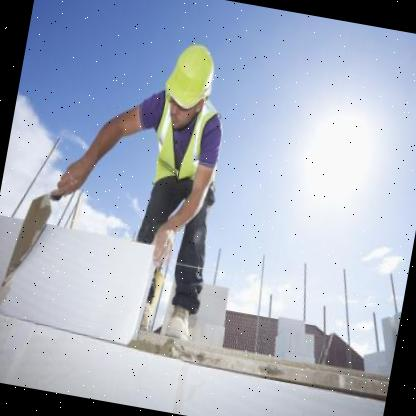capacete: (159, 36, 224, 118)
